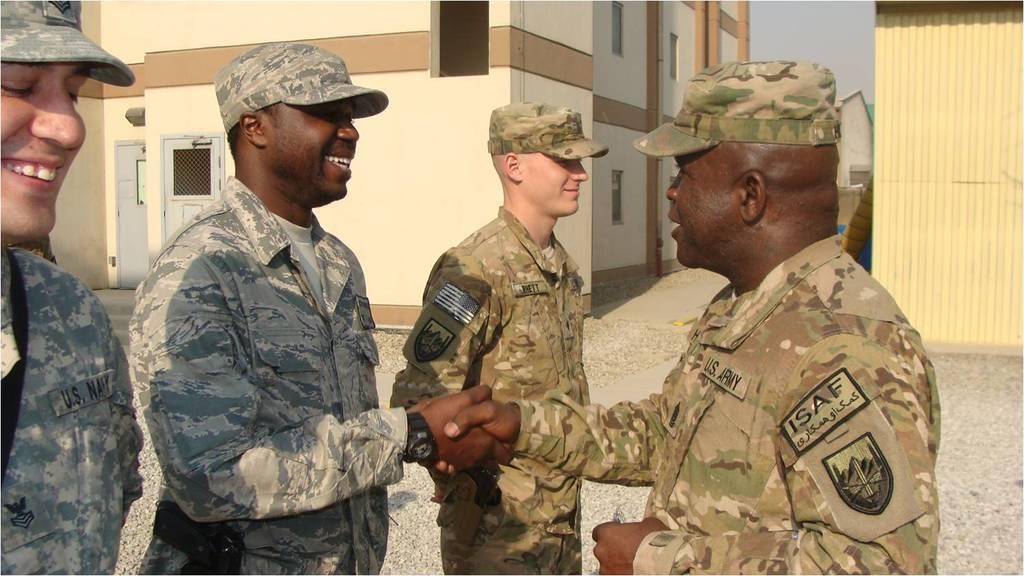Hat: (632, 58, 841, 158), (212, 39, 388, 135), (0, 0, 137, 90), (488, 101, 608, 162)
